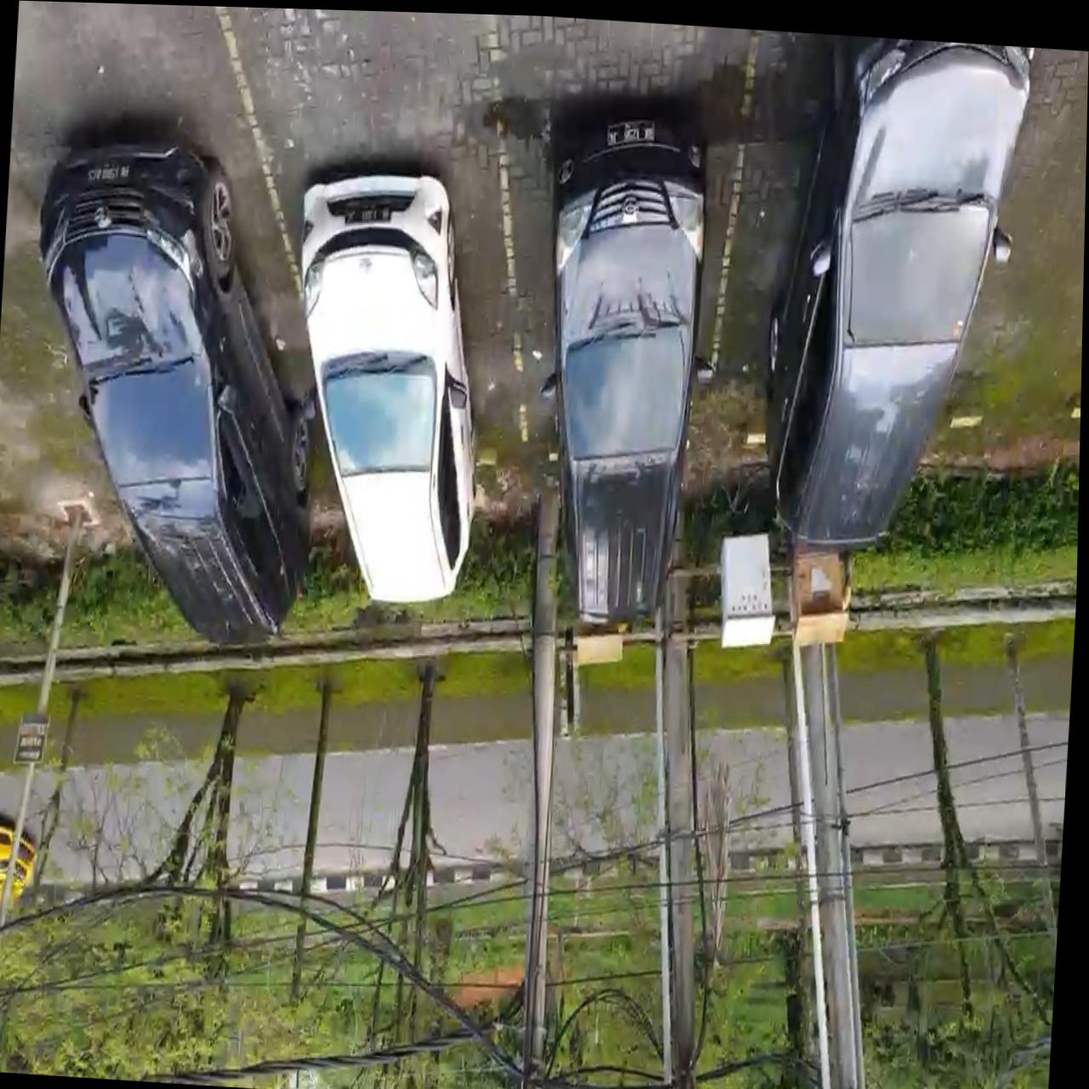cars: (13, 6, 343, 482), (695, 31, 1046, 449), (215, 6, 528, 457), (485, 17, 760, 443)
